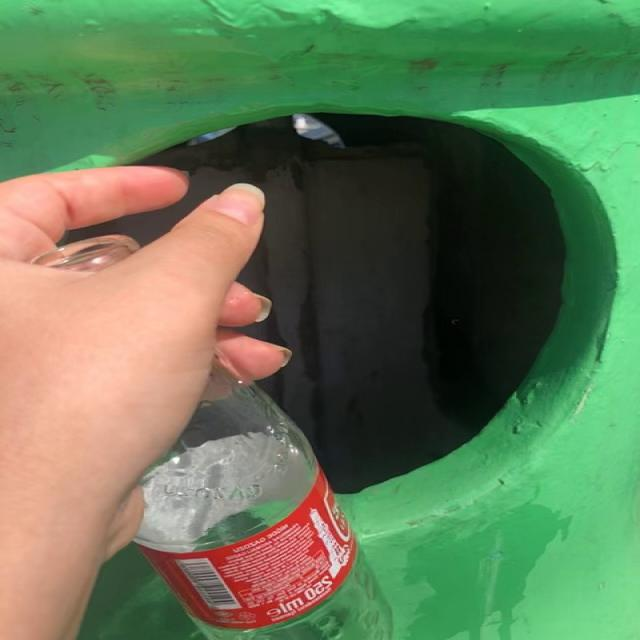glass: (135, 360, 391, 640), (31, 235, 136, 274)
